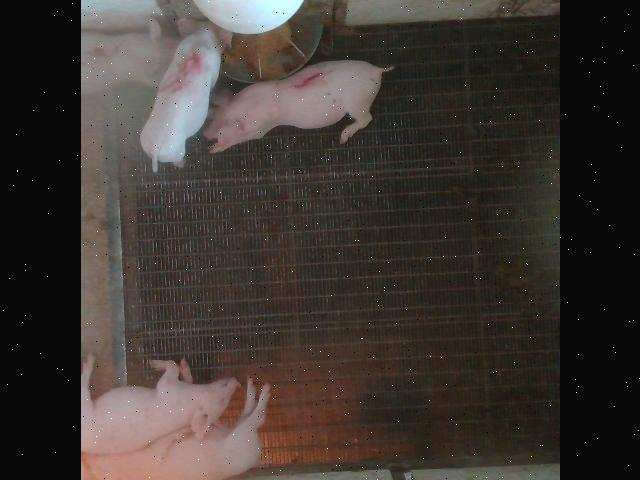pig-1: (203, 60, 392, 152)
pig-3: (82, 18, 178, 94)
pig-5: (140, 21, 231, 170)
